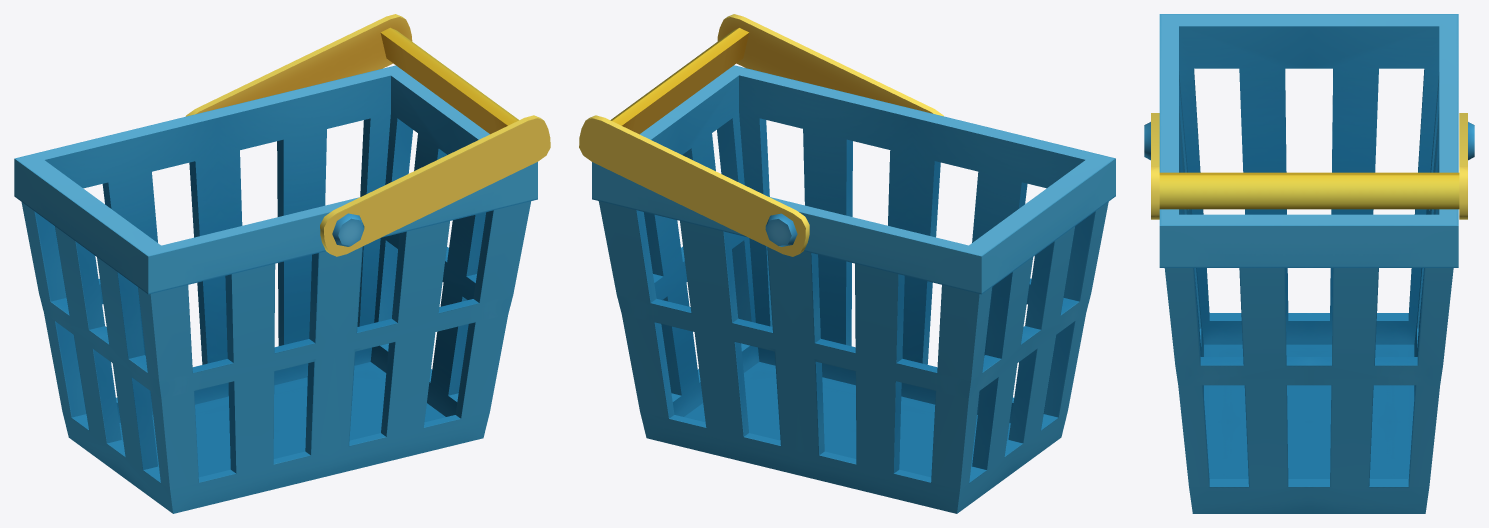
The model's file is ENV2010011.fbx.
3 renders of one model, left to right at view 1: azimuth 30°, elevation 25°; view 2: azimuth 150°, elevation 25°; view 3: azimuth 270°, elevation 25°, orthographic. The views are drawn at different scales.
Visible parts, largest first — view 1: smENV2010011; view 2: smENV2010011; view 3: smENV2010011.
Part boxes in pixels (x1,y1,x2,y2): smENV2010011: (14, 14, 550, 513); smENV2010011: (579, 14, 1115, 513); smENV2010011: (1144, 14, 1474, 513).
Bounding box in the file's own units: 29.87 × 23.31 × 19.25.
Materials: 1 (1 with a texture image).
